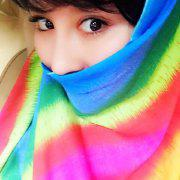WRONG: (28, 6, 135, 113)
